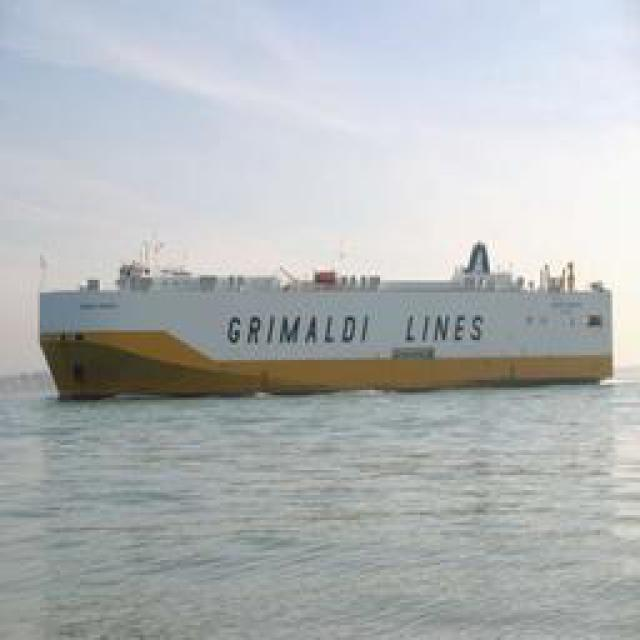Ship: (28, 226, 623, 406)
